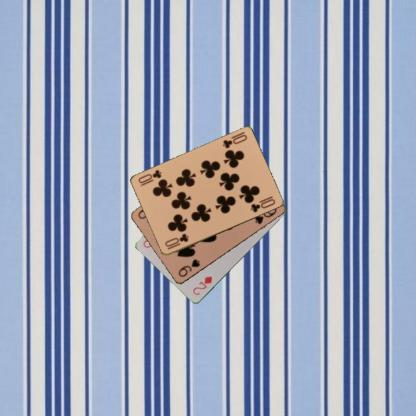10c: (220, 129, 249, 150), (162, 231, 190, 251)
2d: (190, 274, 214, 296)
9s: (176, 256, 201, 278)
